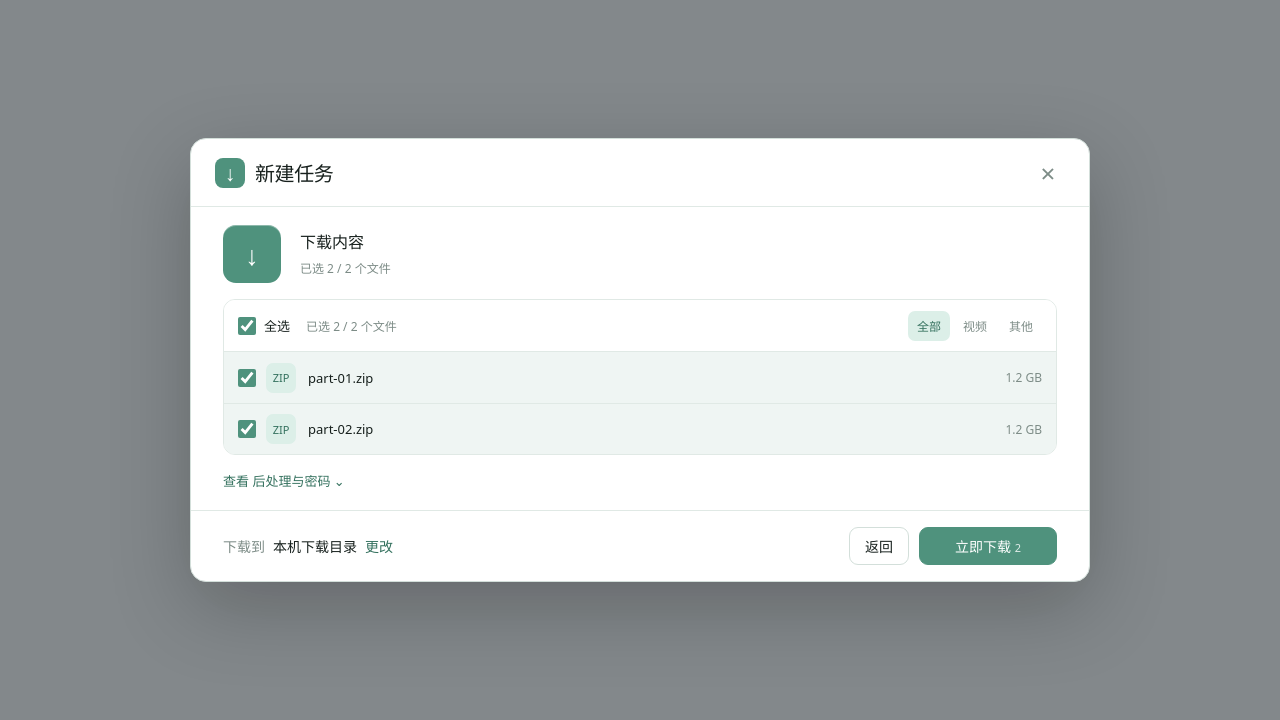
Test: removes expanded processing content when the next result has none
The image size is (1280, 720).
Step 1. Click the button "查看 后处理与密码 ⌄" → point(284, 480), box [223,467,345,494]
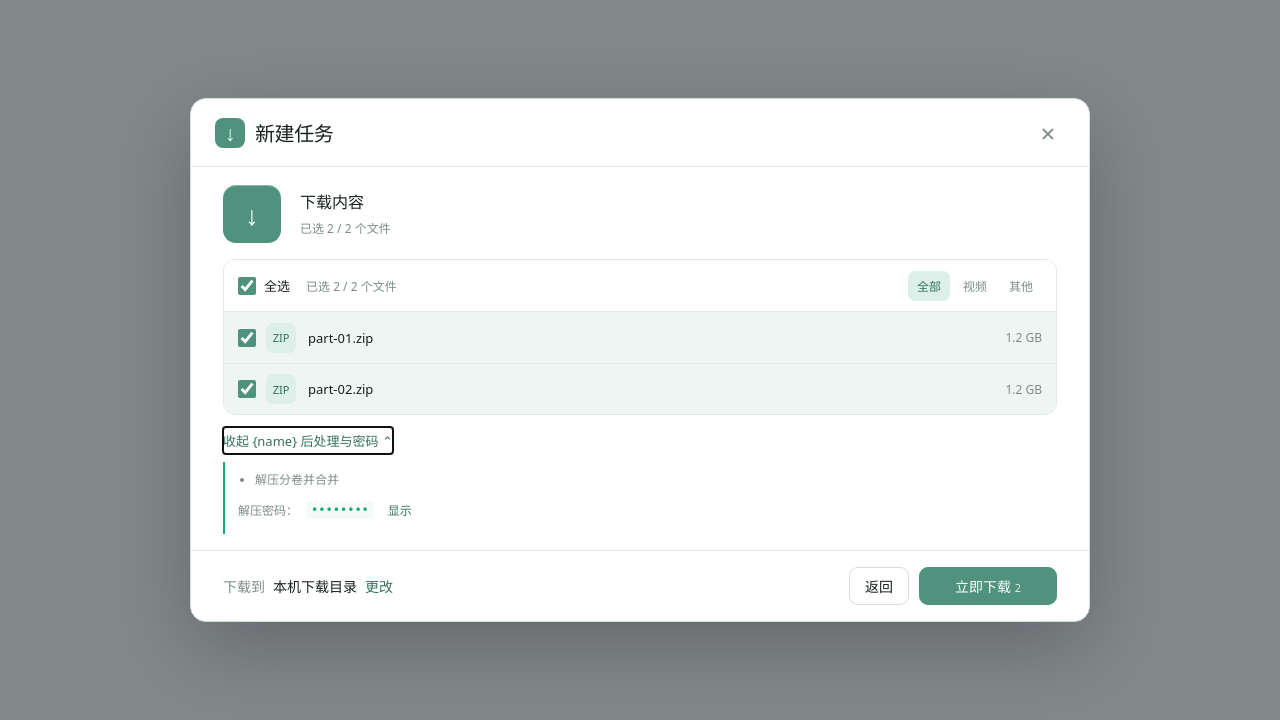
Result: the list item "解压分卷并合并" is shown at [255,471,339,488]
